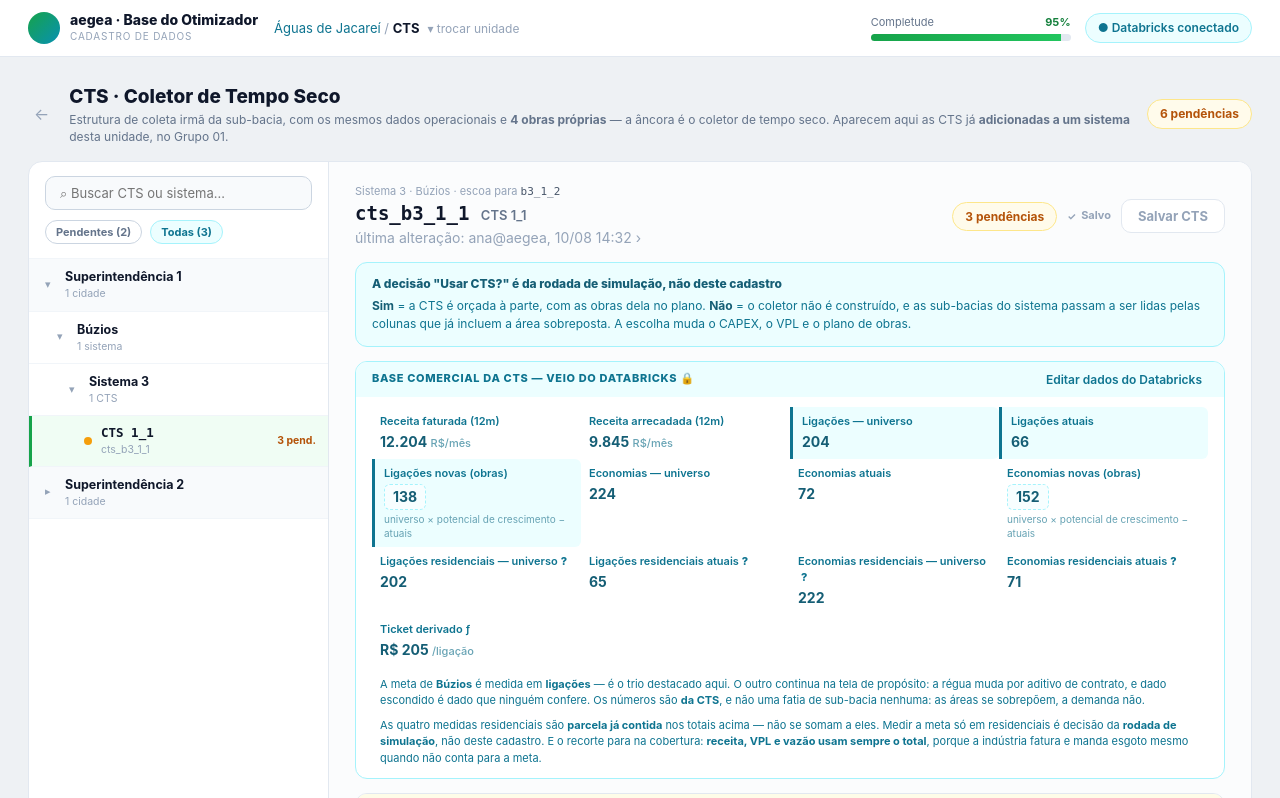
Test case: CTS › segue a mesma regra da sub-bacia, com números próprios
expect the button "Salvar CTS" is shown: met, box [1121,199,1225,233]
expect the field labelled "População — universo" is not shown: met
Type "cts_b2_1_1" into the search field labelled "Buscar CTS ou sistema" at (178, 193), box [45,176,312,210]
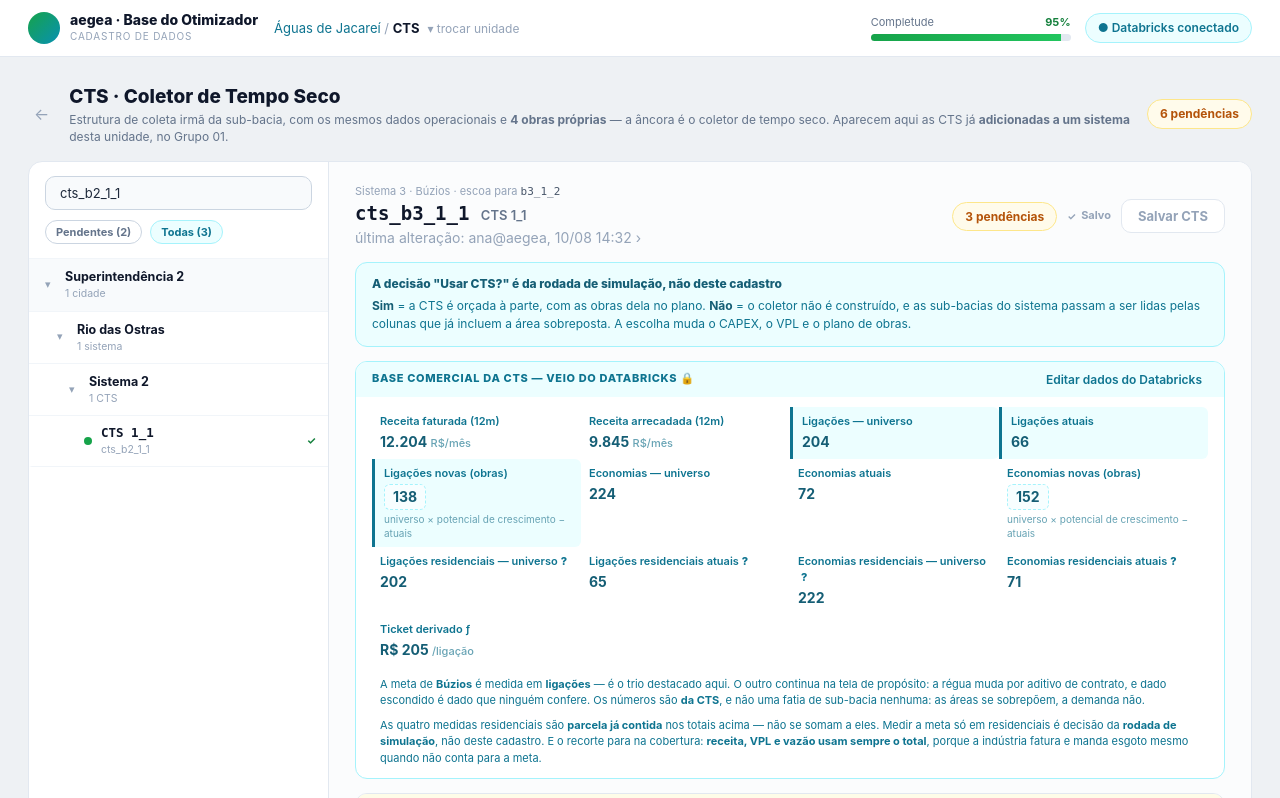
Click the button "CTS 1_1 cts_b2_1_1 ✓" at (127, 433), box [29,416,328,467]
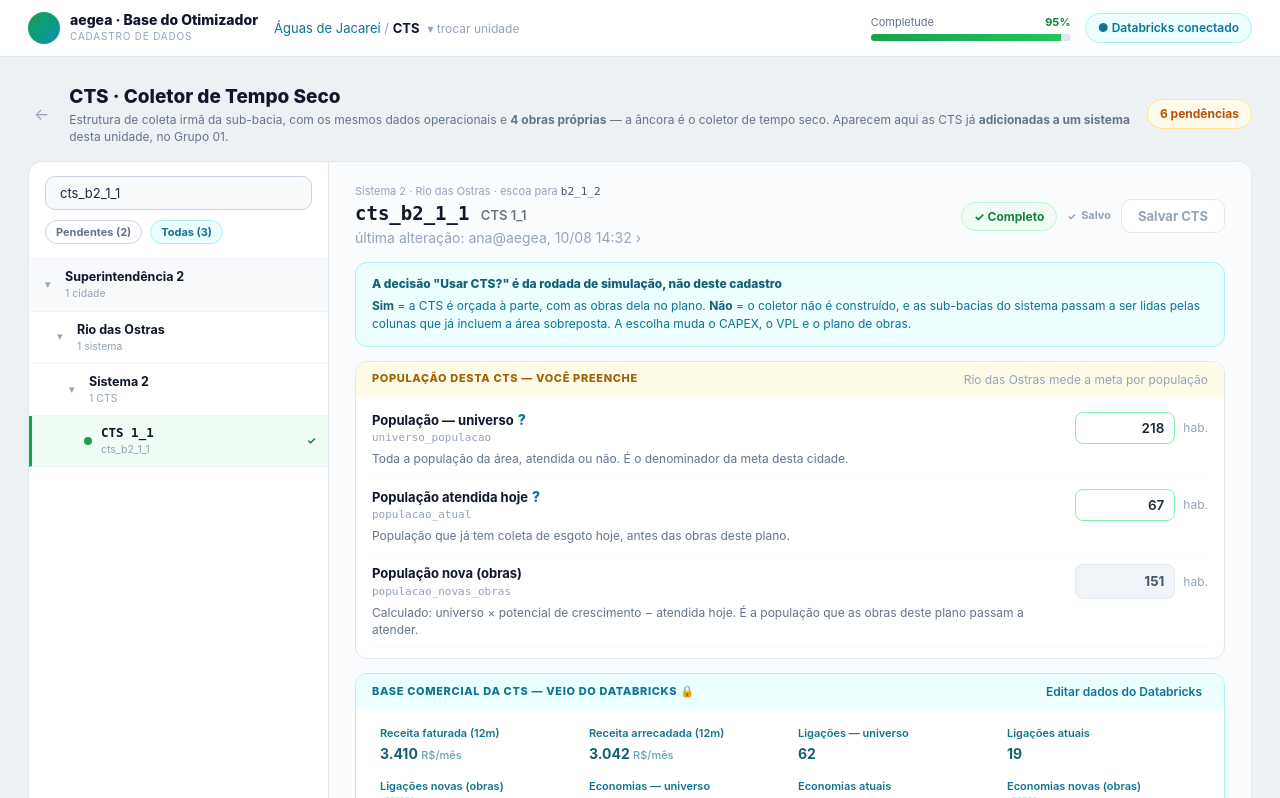
expect the field labelled "População — universo" holds "218": met, box [1075,412,1175,444]
expect the text named "População nova (obras)" reads "151": met, box [1144,573,1164,589]
expect the text "População desta CTS — você preenche" is shown 2 times: met
